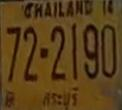0: (101, 24, 118, 79)
1: (72, 23, 78, 80)
2: (49, 26, 67, 81), (23, 26, 39, 83)
7: (6, 26, 22, 82)
9: (82, 24, 100, 79)
SRI: (38, 84, 82, 110)
